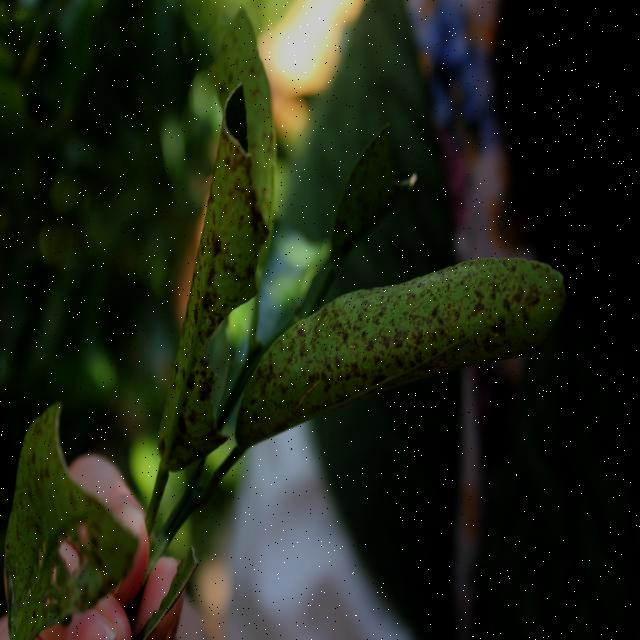melanose: (242, 243, 574, 469), (136, 90, 268, 478), (6, 390, 140, 640), (202, 14, 285, 223), (324, 110, 433, 266)
